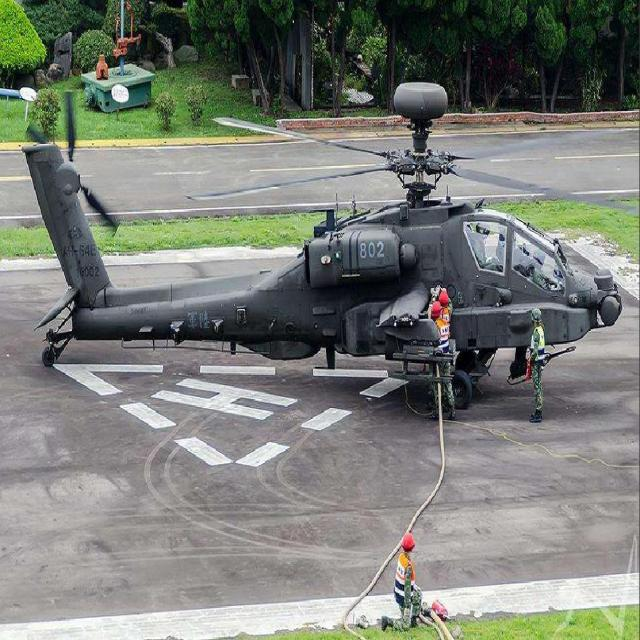MIL_HELO: (19, 62, 603, 447)
